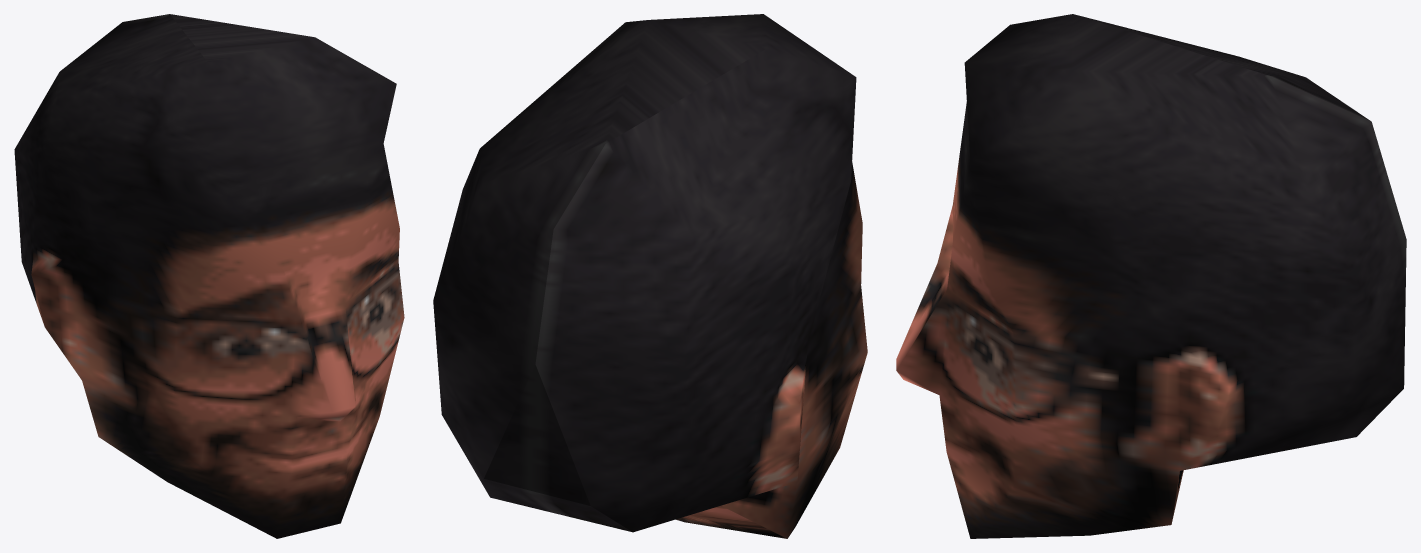
The model's file is head.FBX.
3 views of the same model, side by side, from view 1: azimuth 30°, elevation 25°; view 2: azimuth 150°, elevation 25°; view 3: azimuth 270°, elevation 25° (orthographic). The views are drawn at different scales.
Parts seen in each view (by area): view 1: head; view 2: head; view 3: head.
Boxes of the visible parts, left/top/right/bottom form: head: left=14, top=14, right=404, bottom=538; head: left=433, top=14, right=867, bottom=538; head: left=896, top=14, right=1406, bottom=538.
Size of the model in its own units: 0.4126 by 0.5626 by 0.5416.
